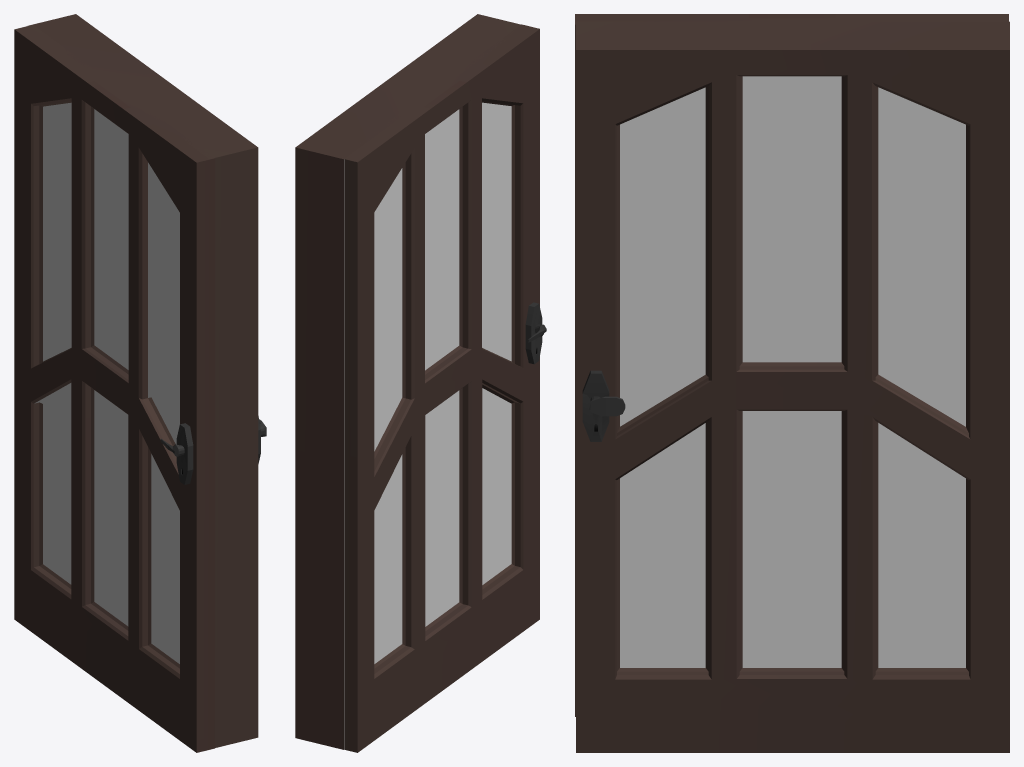
The model's file is Door-C.fbx.
3 views of the same model, side by side, from view 1: azimuth 30°, elevation 25°; view 2: azimuth 150°, elevation 25°; view 3: azimuth 270°, elevation 25° (orthographic). The views are drawn at different scales.
Parts seen in each view (by area): view 1: Door C; view 2: Door C; view 3: Door C.
Part boxes in pixels (box(x1,y1,x2,y2)): Door C: box(14, 14, 266, 752); Door C: box(295, 14, 546, 752); Door C: box(575, 14, 1009, 752).
Bounding box in the file's own units: 79.9 × 497 × 279.
